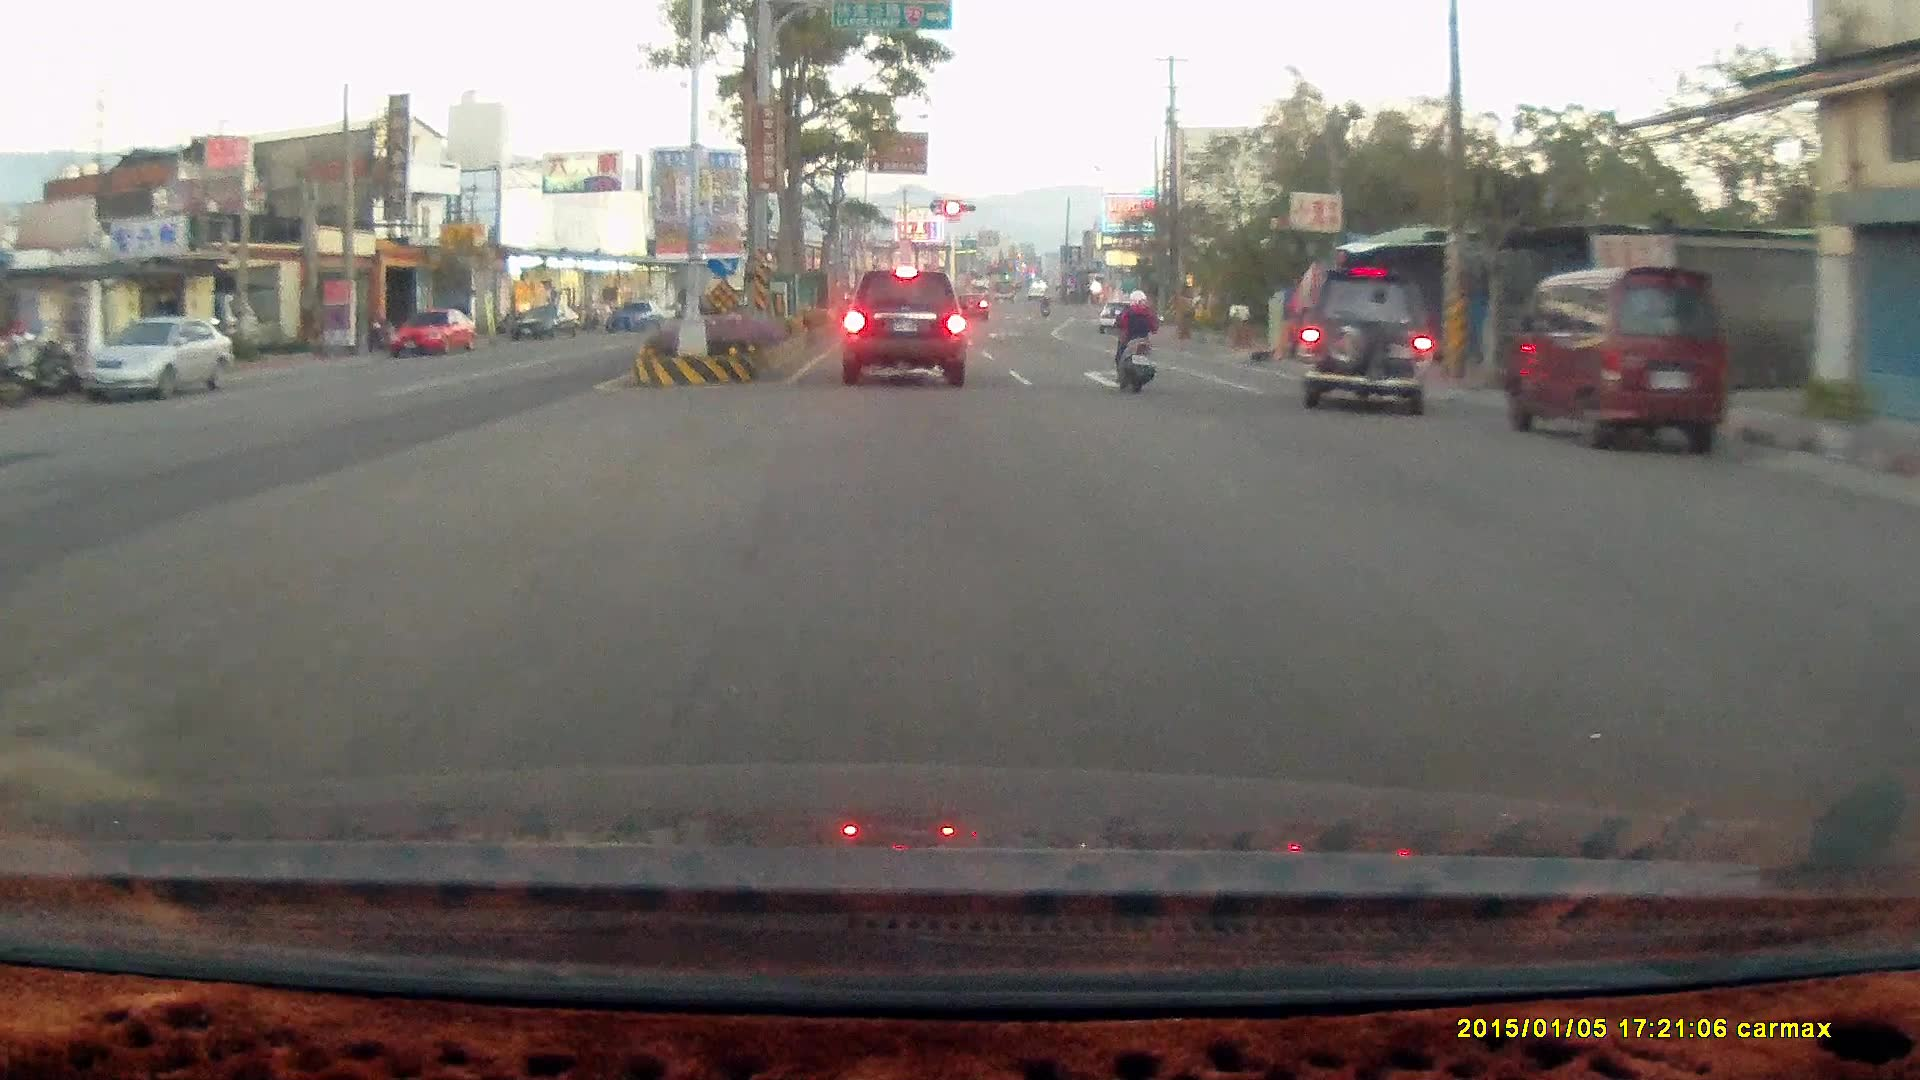rider: (1110, 285, 1159, 393)
vehicle: (1493, 263, 1729, 456), (1503, 261, 1733, 450), (1296, 262, 1444, 410), (1295, 265, 1433, 418), (841, 270, 967, 388), (79, 315, 239, 406), (78, 313, 235, 400), (1896, 493, 1920, 836), (1883, 528, 1920, 690), (391, 307, 480, 359), (387, 305, 476, 354), (1097, 299, 1143, 332)
